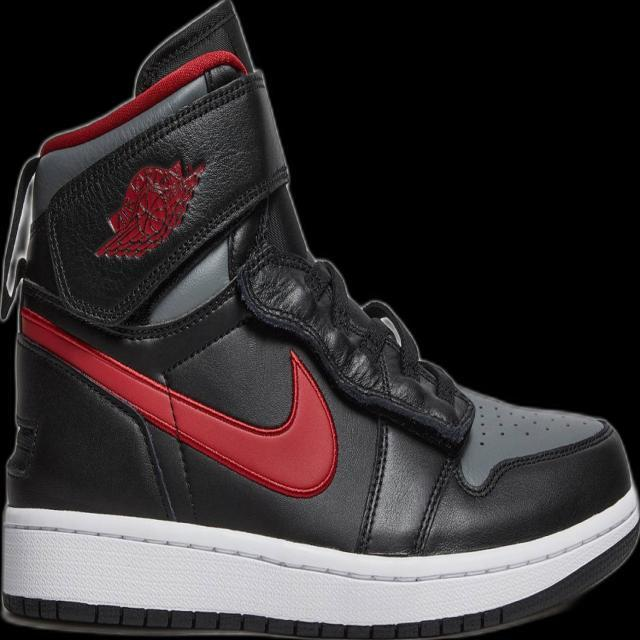J1_InsoleChar: (1, 1, 637, 638)
J1_MateComp: (129, 0, 475, 456)
J1_ShoeLogo: (34, 49, 291, 331), (92, 155, 207, 262)
J1_StitchPattern: (2, 502, 636, 636), (236, 240, 474, 452), (352, 393, 613, 555), (16, 326, 201, 520), (245, 246, 407, 399), (2, 593, 508, 637), (454, 399, 615, 498), (353, 419, 462, 556), (331, 301, 408, 398), (474, 397, 589, 444), (353, 416, 391, 554), (410, 453, 461, 554), (474, 399, 489, 447)
